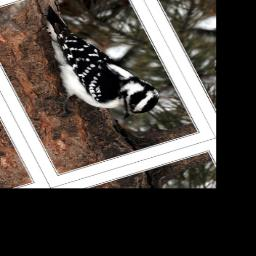Woodpecker: (7, 0, 166, 135)
